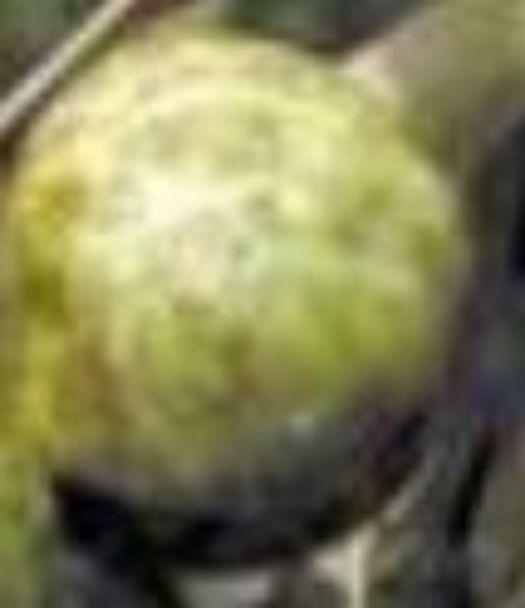BLOTCH: (10, 12, 486, 594)
